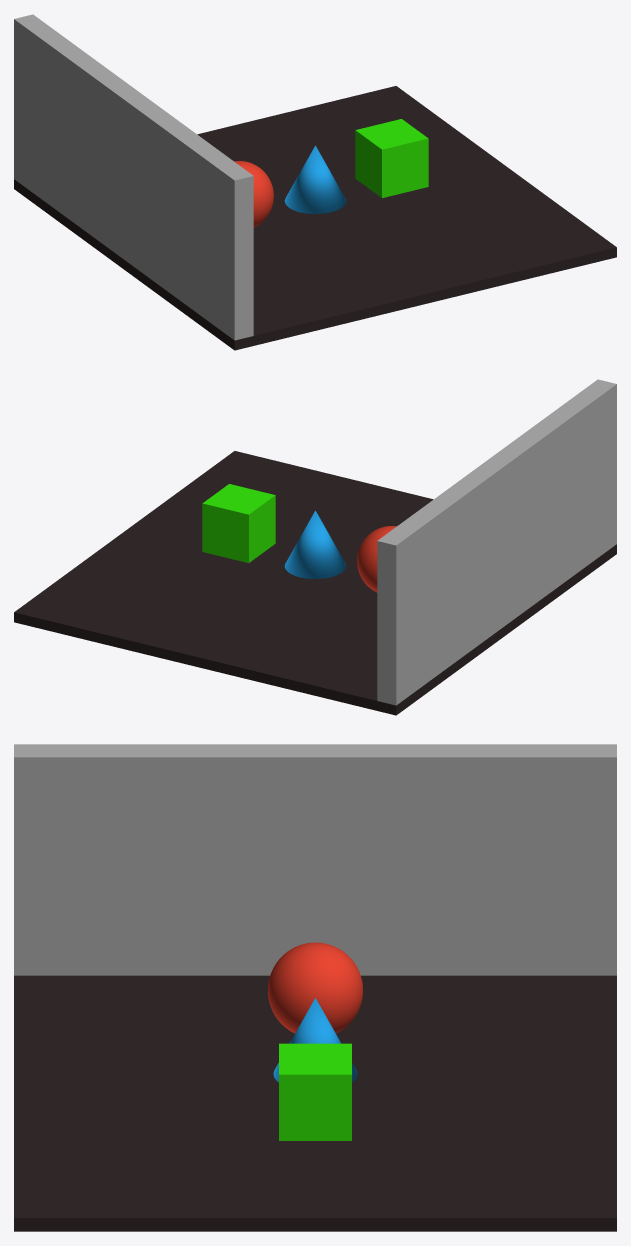
Rendered from TestScene.fbx.
The picture shows the model from 3 angles, top to bottom: view 1: azimuth 30°, elevation 25°; view 2: azimuth 150°, elevation 25°; view 3: azimuth 270°, elevation 25°; orthographic projection. The views are drawn at different scales.
Parts seen in each view (by area): view 1: Floor, Wall, Cube, Cone, Sphere; view 2: Floor, Wall, Cube, Cone, Sphere; view 3: Floor, Wall, Cube, Sphere, Cone.
Boxes of the visible parts, x1,y1,x2,y2 form: Floor: [14, 86, 616, 350]; Wall: [14, 14, 253, 340]; Cube: [355, 119, 428, 198]; Cone: [284, 145, 346, 213]; Sphere: [234, 161, 273, 227]; Floor: [14, 451, 616, 715]; Wall: [377, 379, 616, 705]; Cube: [202, 484, 275, 563]; Cone: [284, 510, 346, 578]; Sphere: [357, 526, 396, 592]; Floor: [14, 975, 616, 1231]; Wall: [14, 744, 616, 975]; Cube: [279, 1043, 351, 1140]; Sphere: [268, 942, 362, 1033]; Cone: [273, 998, 357, 1082].
Bounding box in the file's own units: 20 × 8.5 × 20.
